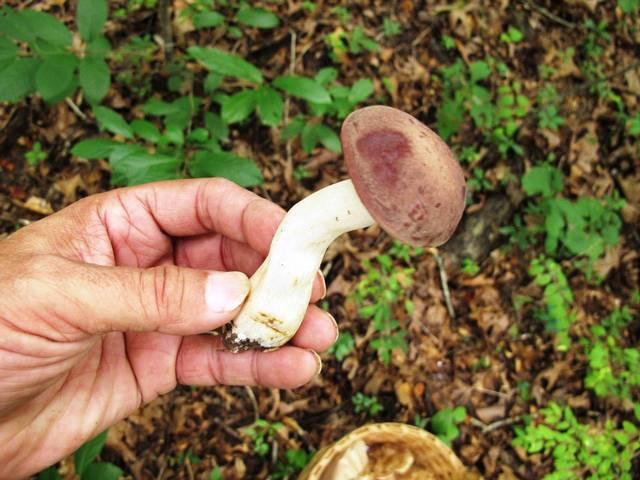Non-edible Mushroom: (217, 103, 467, 353)
